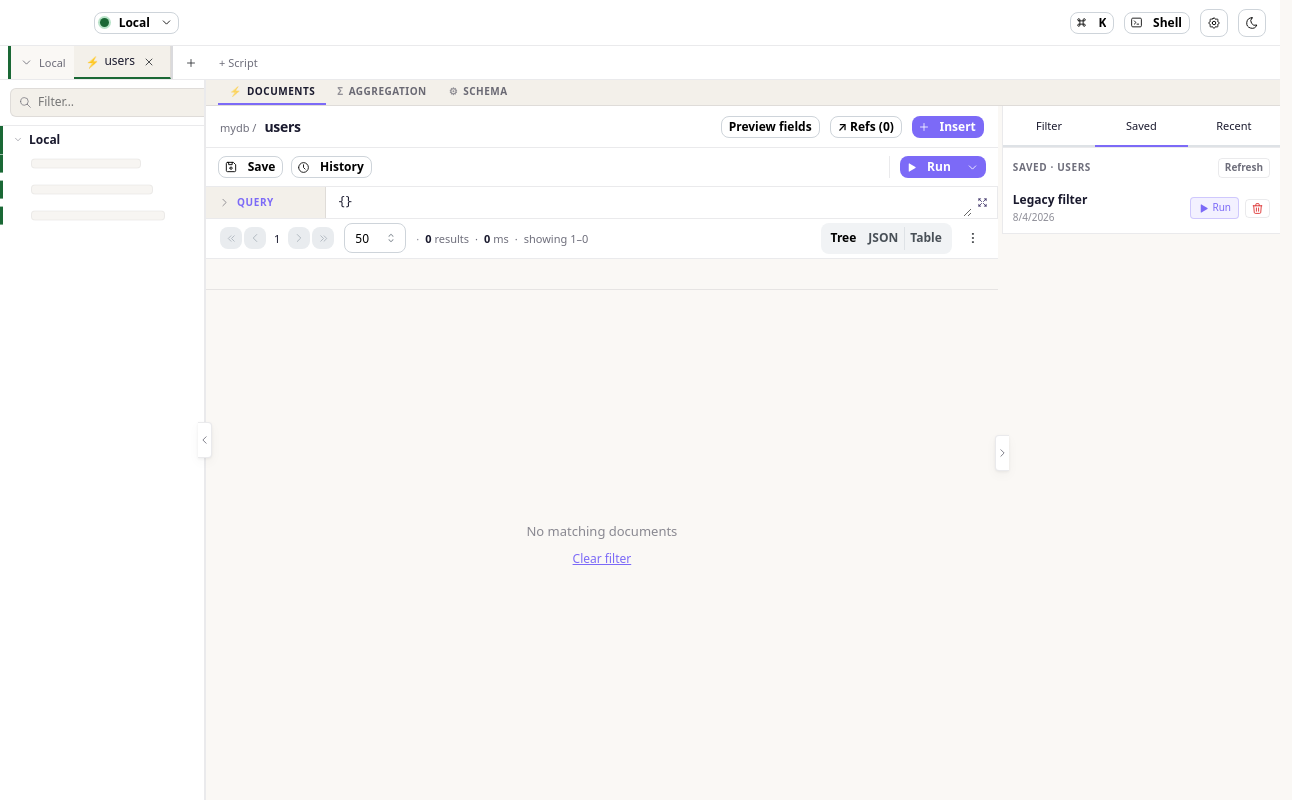
Test case: legacy saved-find payload hydrates through the shim › a pre-queryRaw saved find compiles its filter, not {}, on Run here
This screenshot has width=1292, height=800.
Click the button titled "Run here" next to "Legacy filter" at (1215, 208), box [1190,197,1239,219]
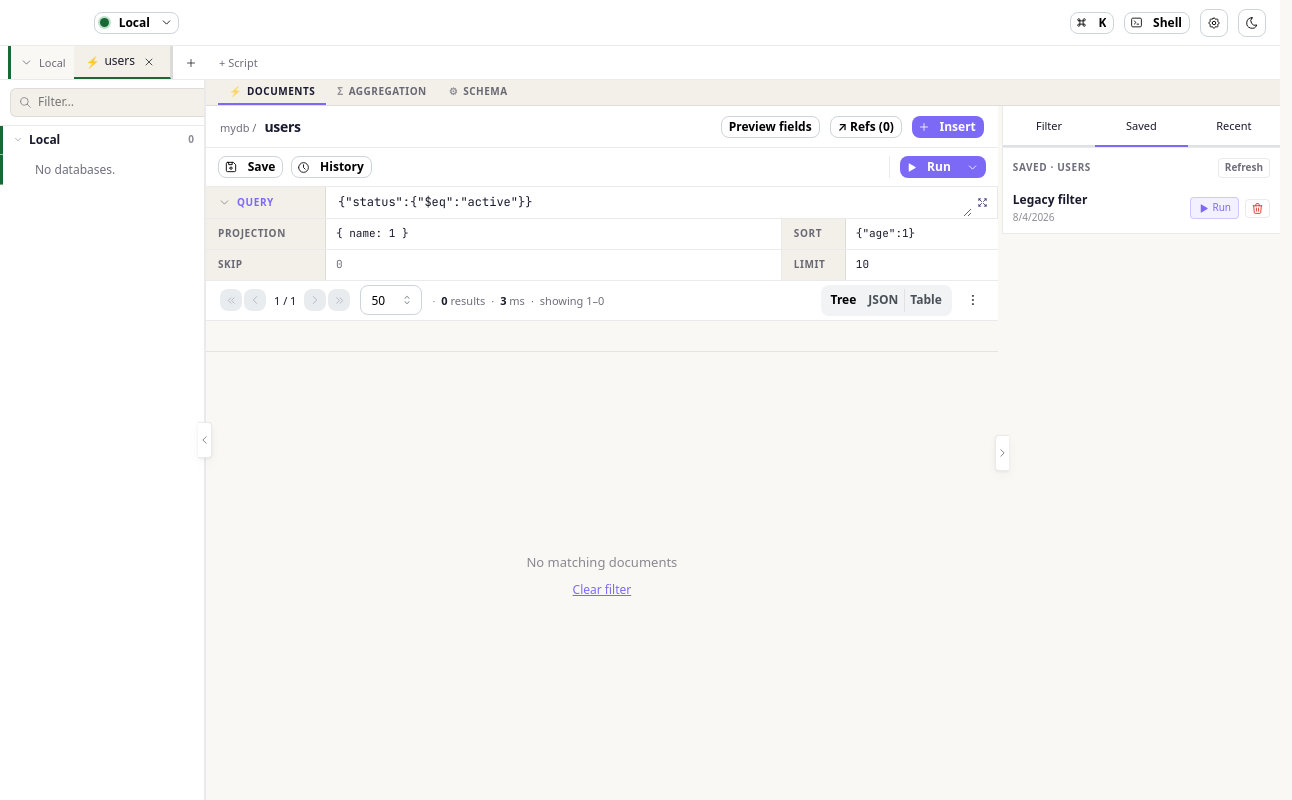
expect the text box with test id "query-bar-input" does not hold "{}": met, box [330,187,972,218]
